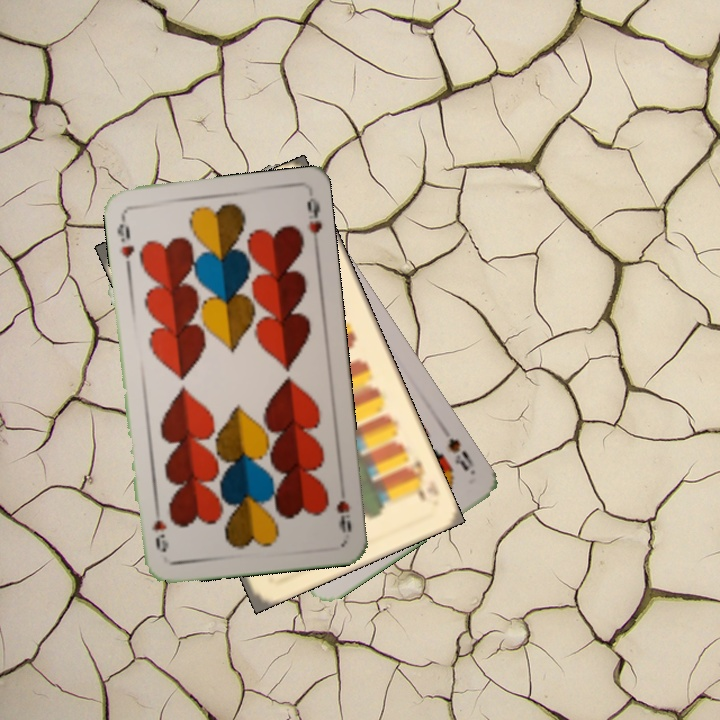E10: (402, 456, 428, 504)
H9: (113, 211, 137, 260), (333, 496, 354, 536)
S8: (443, 434, 477, 474)
